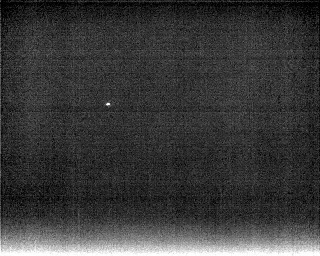BIRD: (104, 100, 112, 108)
